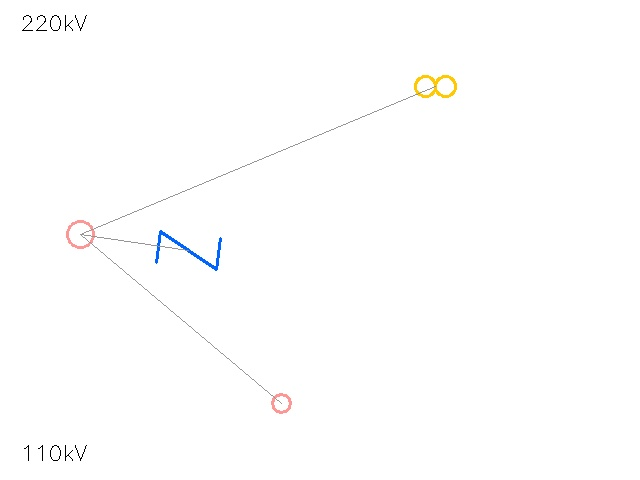circuit_breaker: (155, 217, 221, 283)
fuse: (53, 207, 107, 261)
reactor: (262, 384, 300, 422)
transformer_2w: (410, 61, 460, 111)
